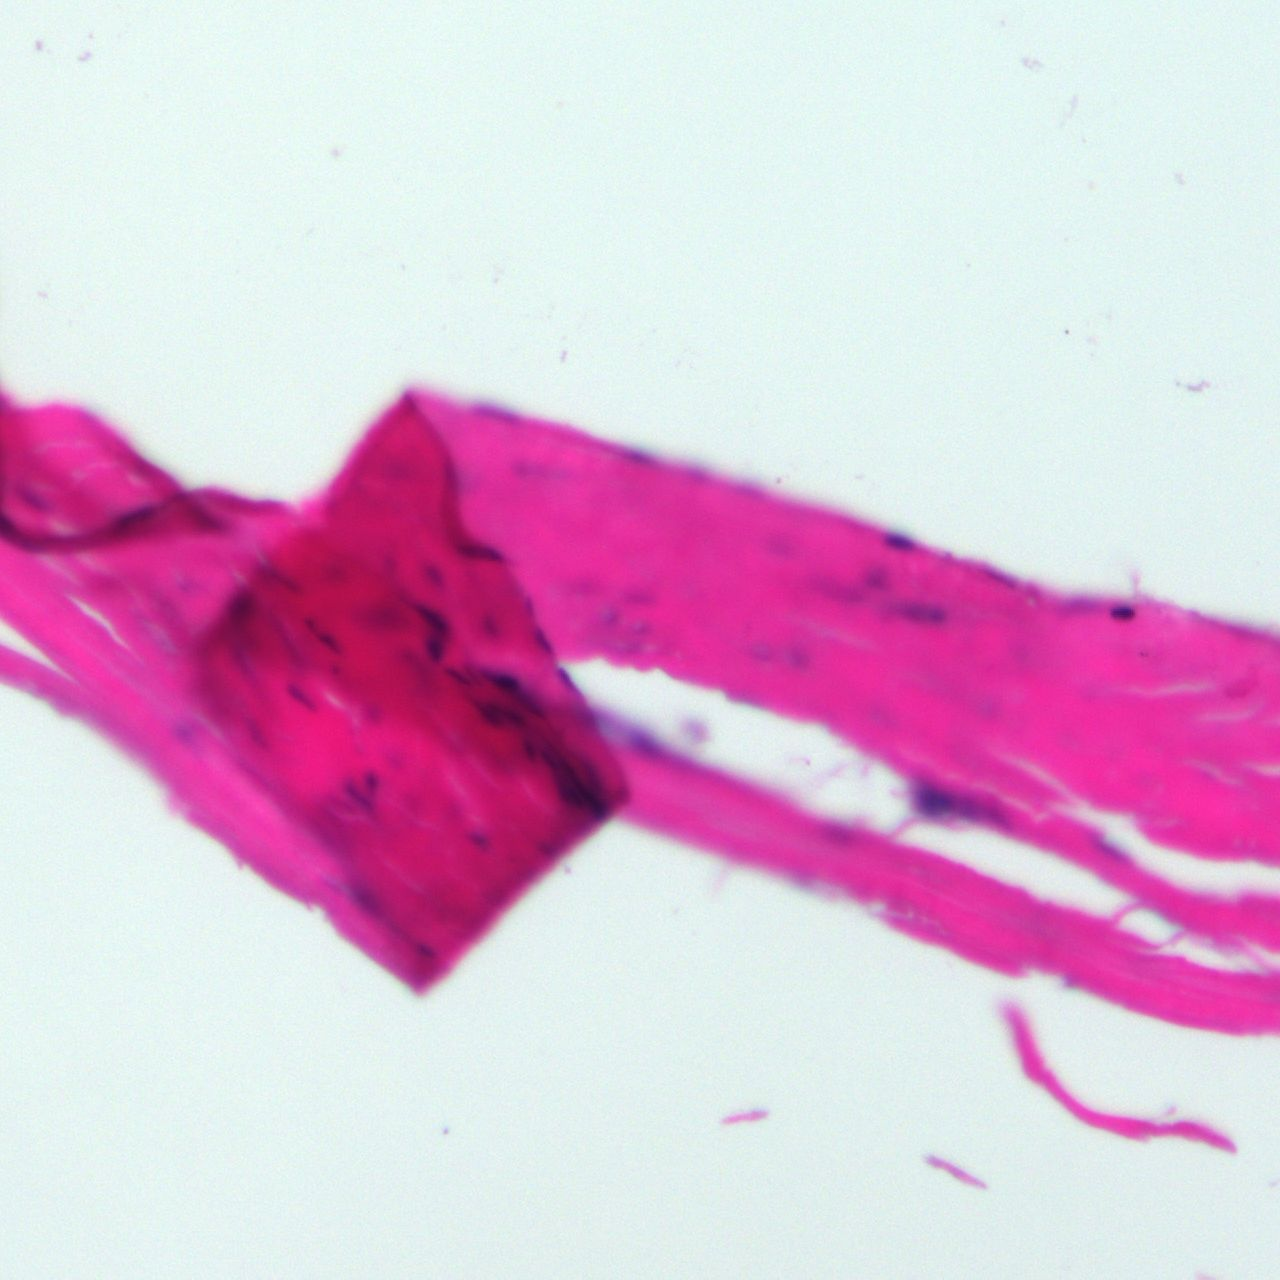nucleus-HE: (469, 690, 527, 736), (477, 659, 536, 704), (406, 595, 456, 644), (275, 678, 326, 723), (879, 599, 948, 625), (220, 588, 259, 633), (911, 782, 954, 818), (343, 771, 377, 815), (880, 526, 919, 557), (166, 717, 195, 757), (313, 625, 346, 659), (445, 663, 477, 692), (456, 543, 499, 561), (864, 559, 888, 591), (422, 560, 443, 592), (784, 645, 806, 673), (742, 636, 771, 658), (624, 583, 652, 601), (468, 829, 488, 853), (424, 639, 442, 666), (1108, 602, 1135, 620), (481, 614, 499, 639), (416, 938, 434, 960)
